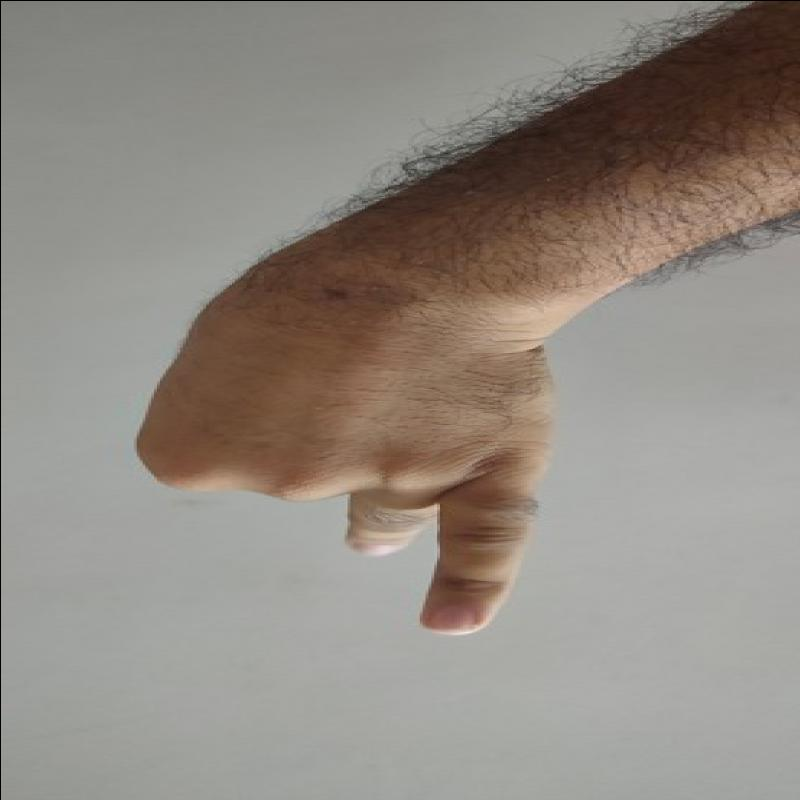Katakam: (98, 303, 609, 652)
